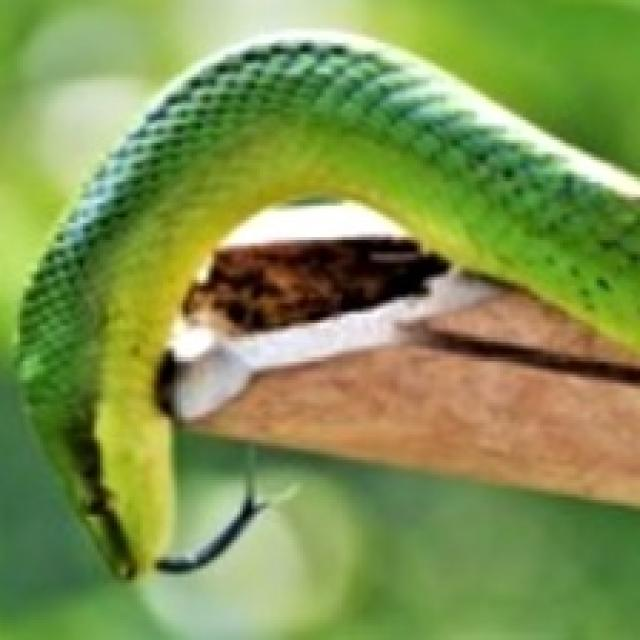red-tailed green ratsnake: (20, 31, 637, 574)
